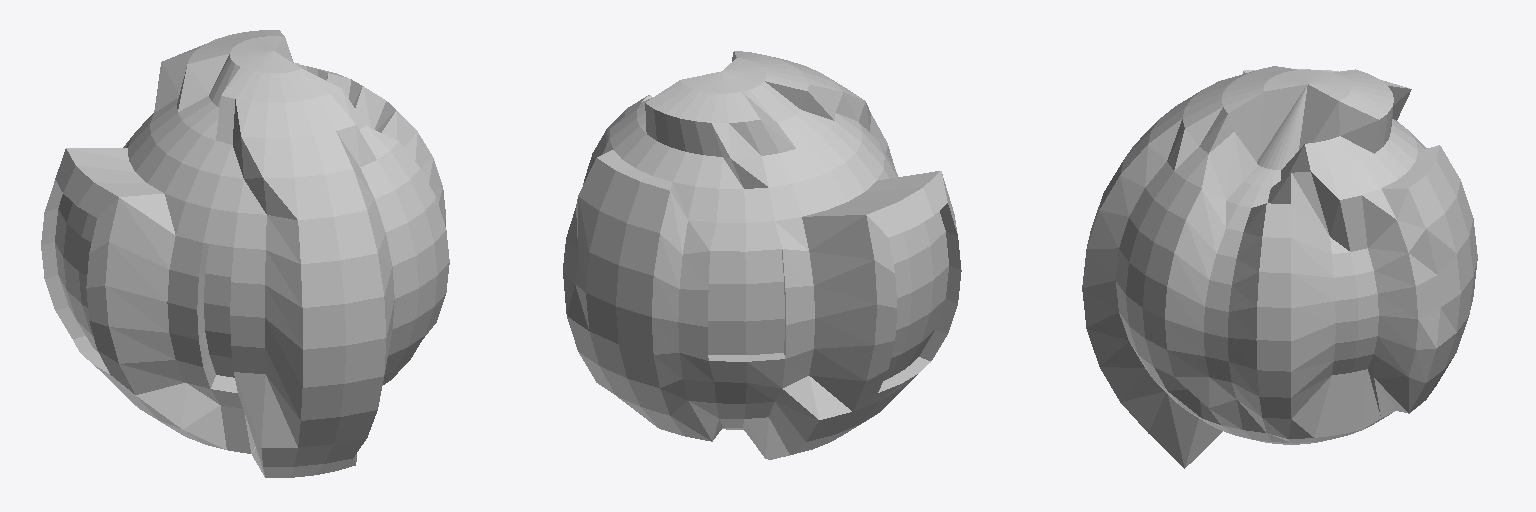
Rendered from planet.obj.
The picture shows the model from 3 angles: view 1: azimuth 30°, elevation 25°; view 2: azimuth 150°, elevation 25°; view 3: azimuth 270°, elevation 25°; orthographic projection.
Visible parts, largest first — view 1: Sphere; view 2: Sphere; view 3: Sphere.
Boxes of the visible parts, box(x1,y1,x2,y2) form: Sphere: box(41, 30, 449, 477); Sphere: box(563, 51, 961, 459); Sphere: box(1082, 66, 1477, 468).
Bounding box in the file's own units: 9.3 × 9.17 × 8.78.